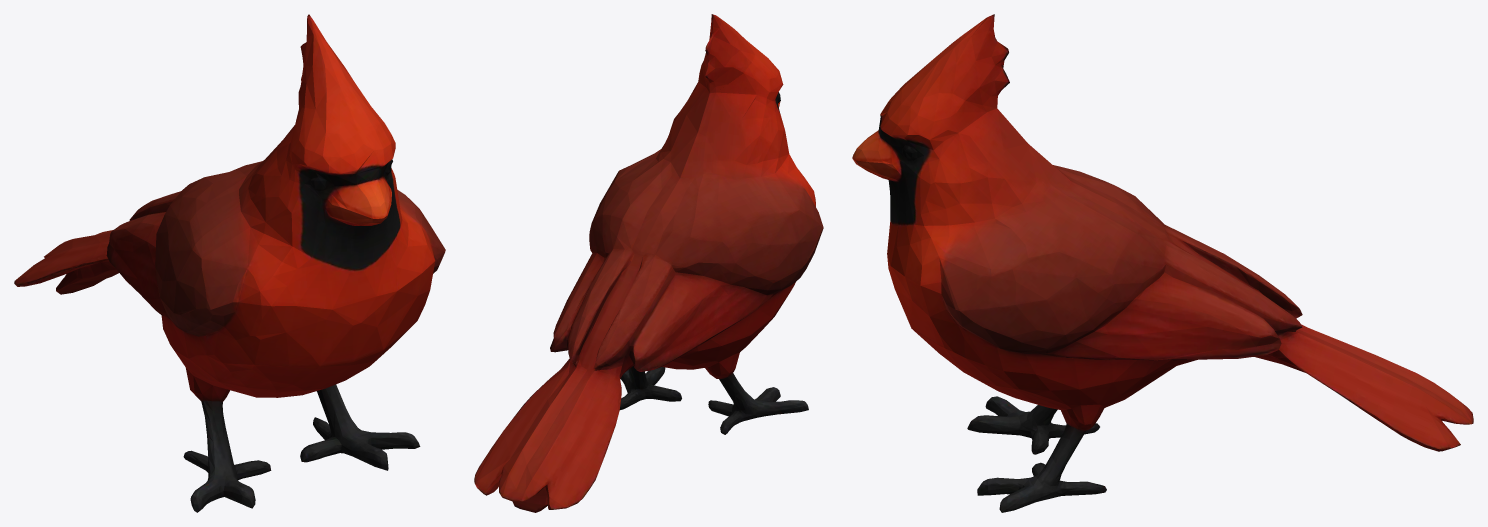
Rendered from cardinal.glb.
3 views of the same model, side by side, from view 1: azimuth 30°, elevation 25°; view 2: azimuth 150°, elevation 25°; view 3: azimuth 270°, elevation 25° (orthographic). The views are drawn at different scales.
Parts seen in each view (by area): view 1: world; view 2: world; view 3: world.
Boxes of the visible parts, x1,y1,x2,y2 form: world: (14, 14, 445, 512); world: (474, 14, 823, 512); world: (852, 14, 1473, 512).
Size of the model in its own units: 0.4397 by 0.8024 by 1.
1 material, 1 textured.
